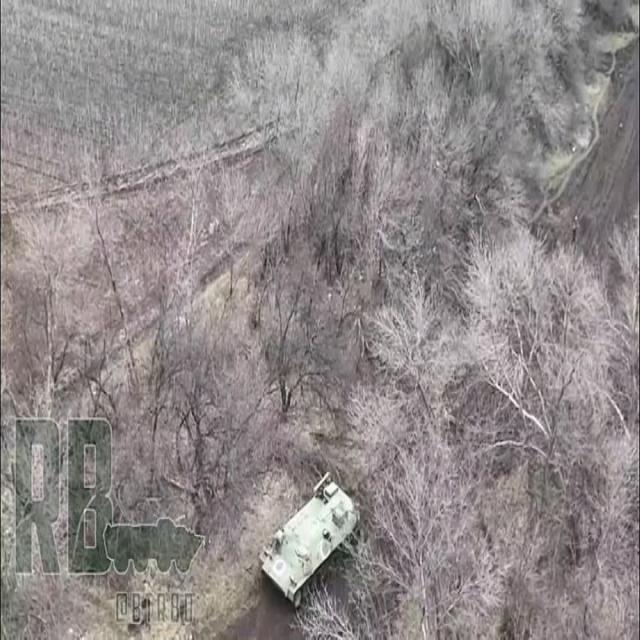apc: (258, 476, 360, 610)
